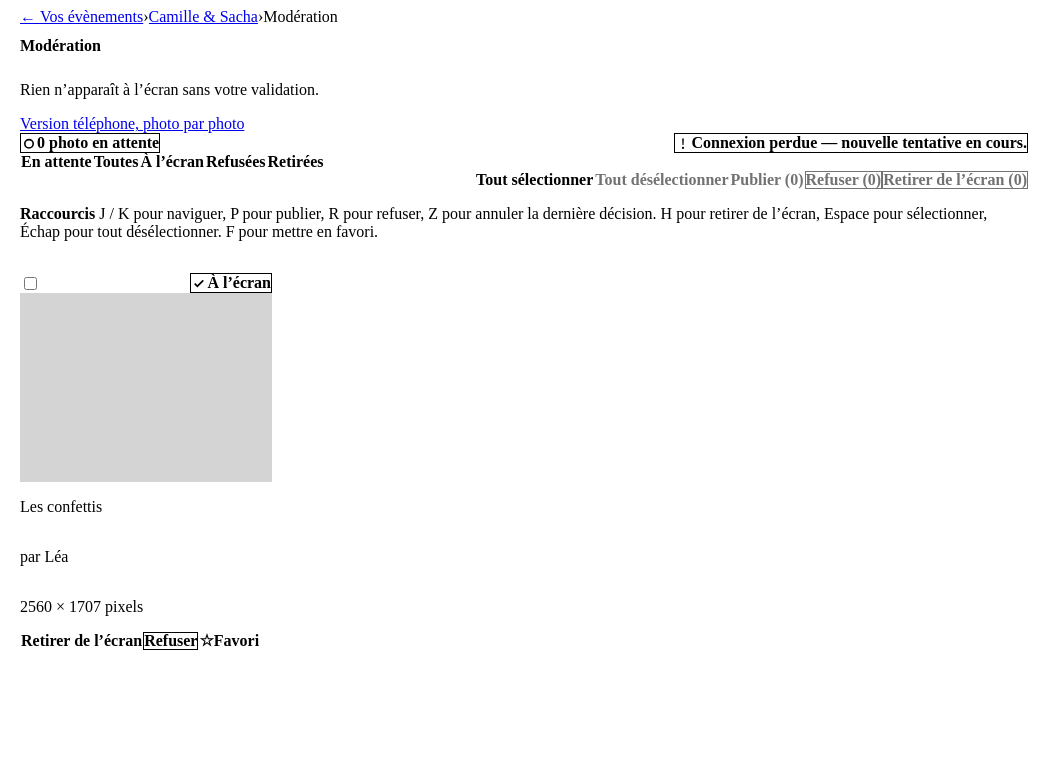
it: ModerationPage › Z and the notices after a decision (MOD-1) › does not offer that link after a refusal that can be taken back
Click the button "Refuser".
click(171, 641)  # box x1=143 y1=632 x2=198 y2=650
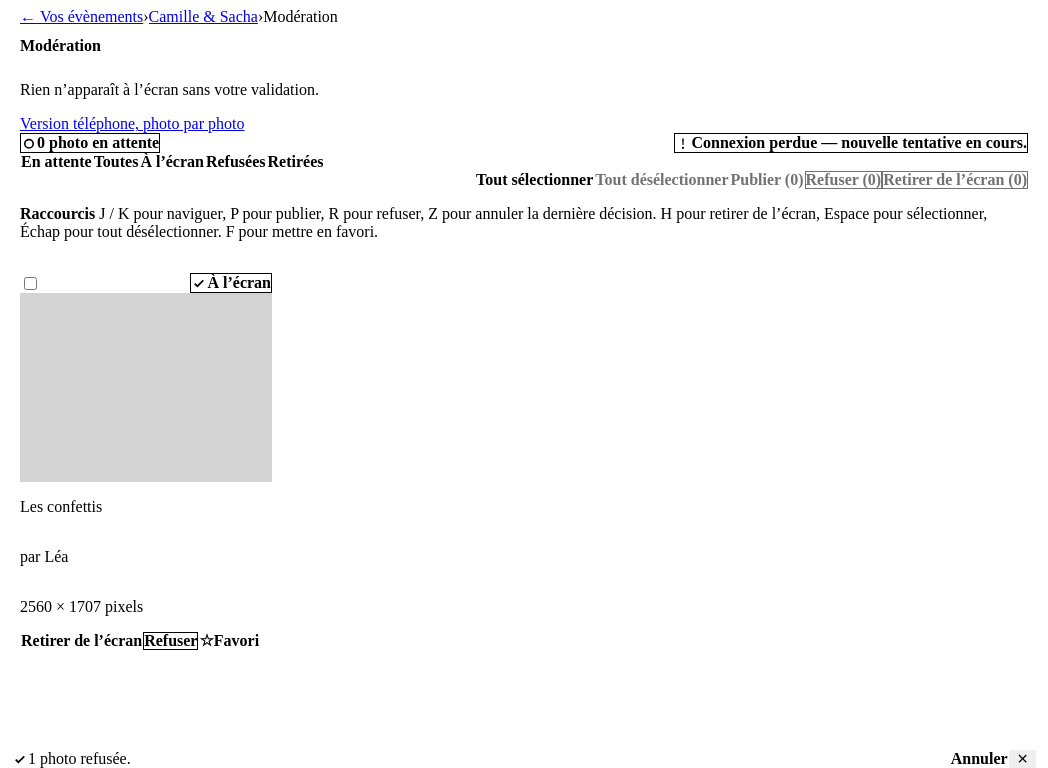
Expected: the button "Annuler" is shown, x1=950 y1=750 x2=1009 y2=767
